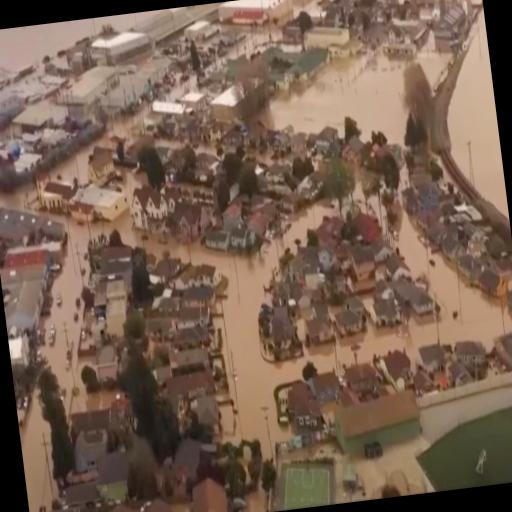flood: (144, 199, 439, 455), (38, 55, 198, 184), (40, 215, 141, 412), (264, 46, 408, 144), (449, 8, 509, 216), (428, 247, 505, 350), (0, 18, 93, 70), (21, 393, 56, 512), (215, 26, 269, 68), (396, 209, 428, 279), (419, 49, 450, 83), (0, 182, 35, 208)
house: (331, 389, 426, 464), (75, 180, 133, 226), (282, 379, 324, 439), (126, 184, 172, 238), (2, 284, 47, 334), (325, 296, 366, 340), (40, 174, 76, 218), (366, 288, 400, 330), (191, 477, 229, 512), (408, 282, 438, 322), (344, 360, 378, 394), (86, 152, 118, 184), (378, 348, 410, 380), (314, 372, 340, 402), (204, 227, 232, 253), (343, 134, 365, 167), (286, 254, 306, 286), (316, 124, 340, 148), (200, 262, 222, 288), (139, 496, 173, 512), (317, 245, 335, 273), (272, 130, 291, 150), (177, 212, 192, 236), (38, 263, 51, 287), (45, 505, 83, 512), (105, 504, 134, 512)
